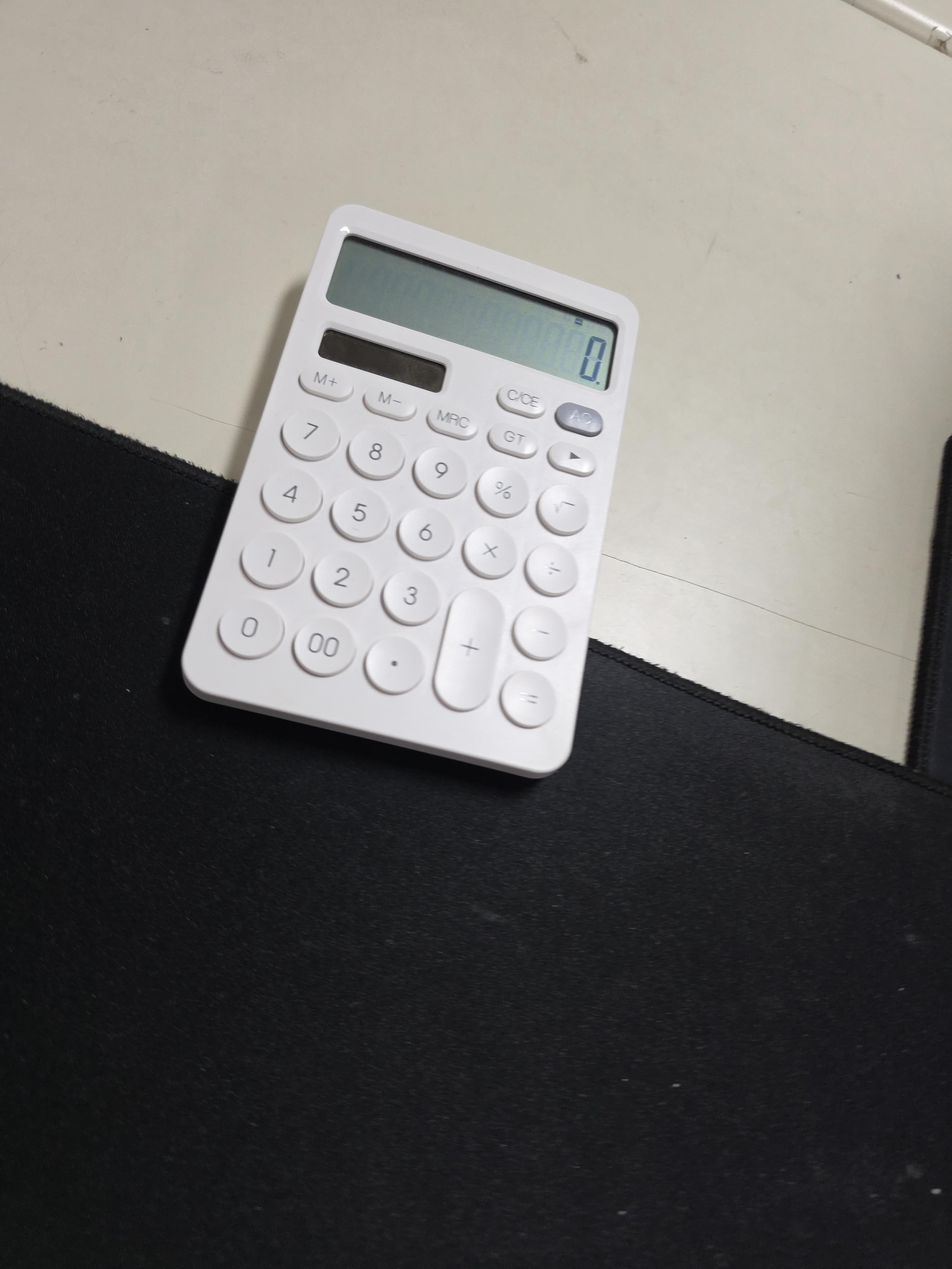calculator: (181, 203, 640, 779)
